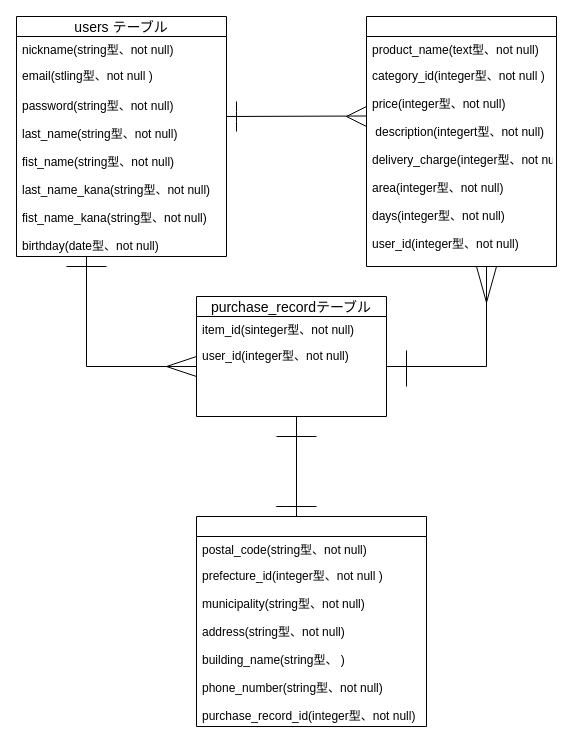
Some shapes in this 581 by 743 pixel diagram are drawn without their labels. Each missing label, with the box of its shape:
items テーブル: (366, 16, 556, 266)
shipping_address テーブル: (196, 516, 426, 726)
